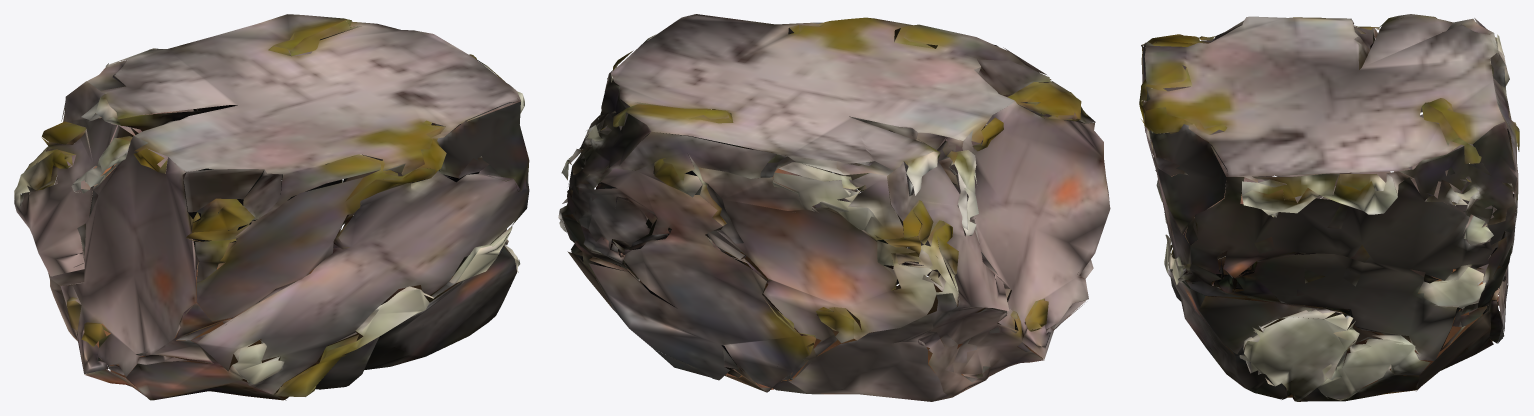
File: roca_grande2.movil.glb
3 renders of one model, left to right at view 1: azimuth 30°, elevation 25°; view 2: azimuth 150°, elevation 25°; view 3: azimuth 270°, elevation 25°, orthographic.
Parts seen in each view (by area): view 1: geometry_0; view 2: geometry_0; view 3: geometry_0.
Part boxes in pixels (x1,y1,x2,y2): geometry_0: (14, 14, 529, 400); geometry_0: (558, 14, 1110, 401); geometry_0: (1139, 14, 1519, 401).
Bounding box in the file's own units: 4 × 2.19 × 3.2.
1 material, 1 textured.
